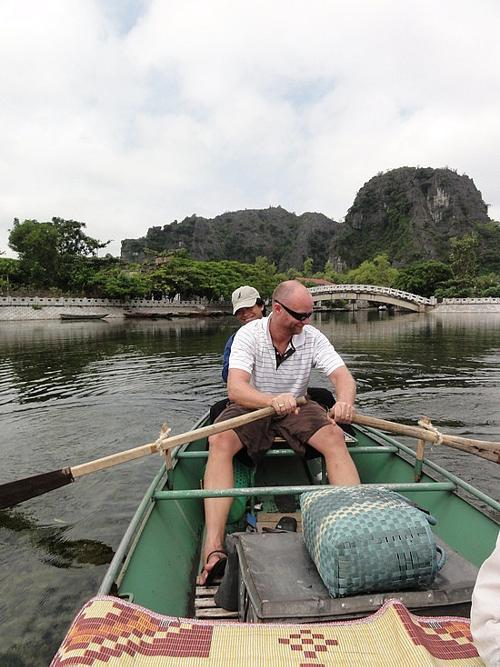person: (199, 280, 364, 588)
